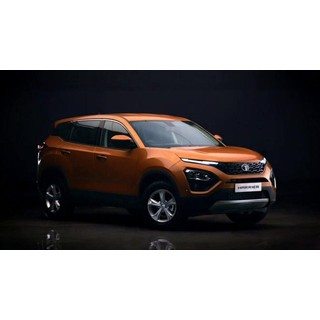car: (36, 113, 277, 229)
